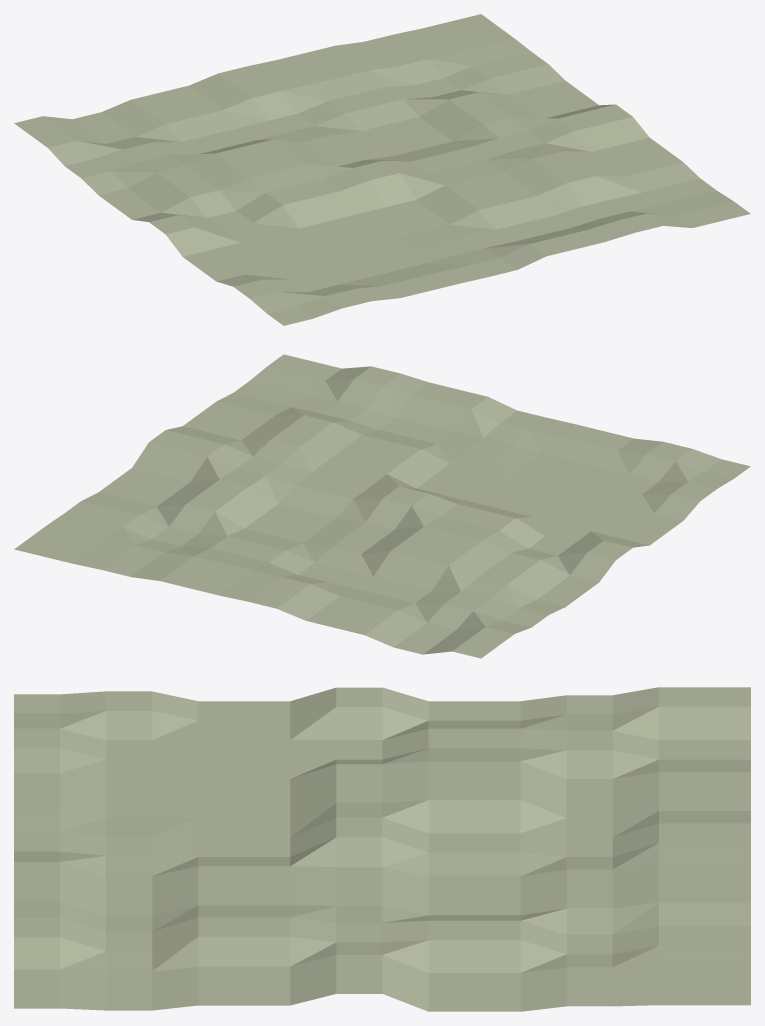
3 renders of one model, top to bottom at view 1: azimuth 30°, elevation 25°; view 2: azimuth 150°, elevation 25°; view 3: azimuth 270°, elevation 25°, orthographic. The views are drawn at different scales.
Size of the model in its own units: 32 by 0.9429 by 32.
